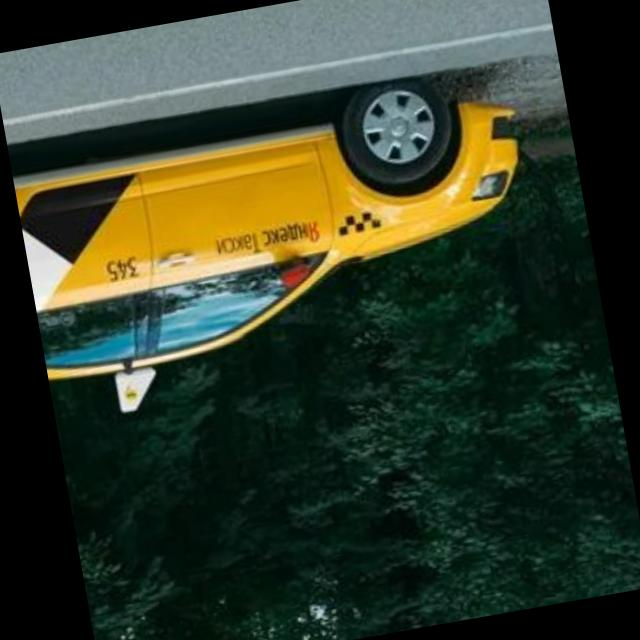taxi: (7, 59, 558, 428)
